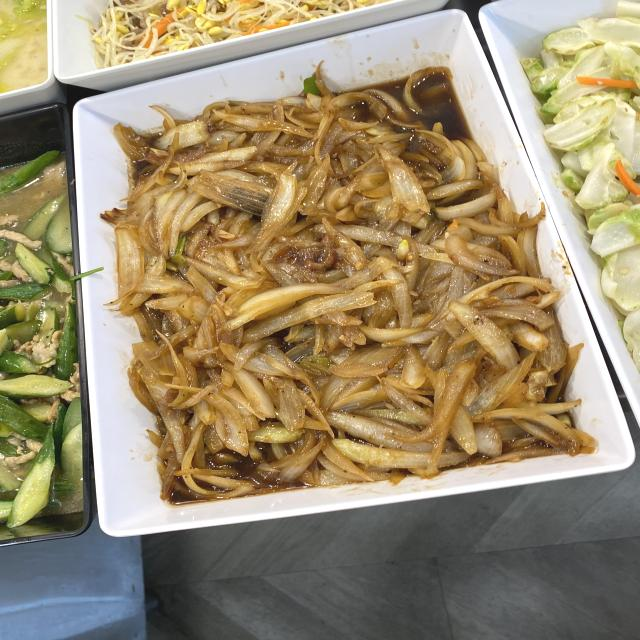Fried onions: (165, 172, 496, 440)
